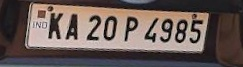numberplate: (24, 1, 210, 54)
